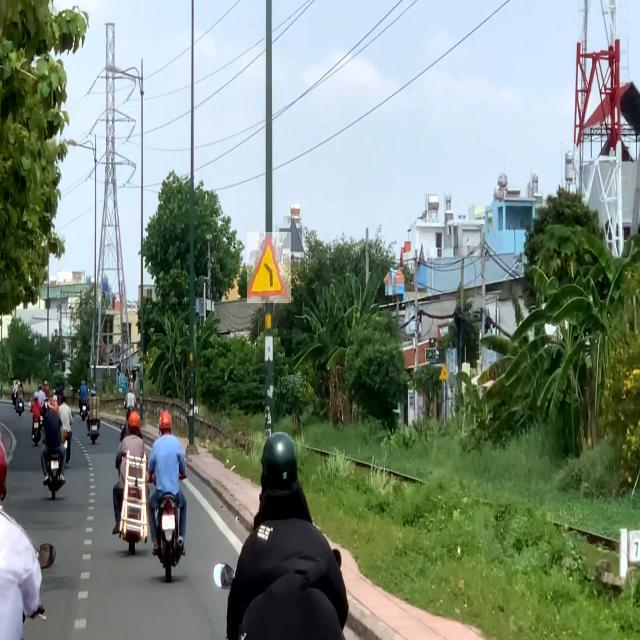W-201a: (247, 232, 291, 303)
